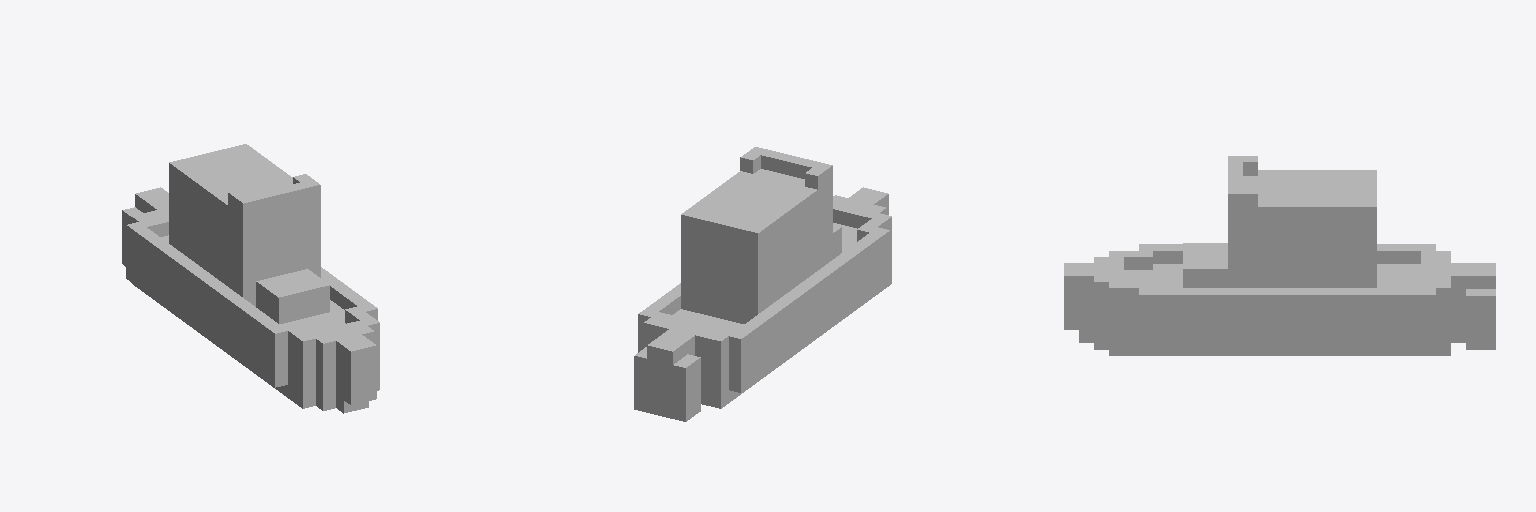
Rendered from huvipursi.obj.
The picture shows the model from 3 angles: view 1: azimuth 30°, elevation 25°; view 2: azimuth 150°, elevation 25°; view 3: azimuth 270°, elevation 25°; orthographic projection.
Bounding box in the file's own units: 8 × 12 × 29.